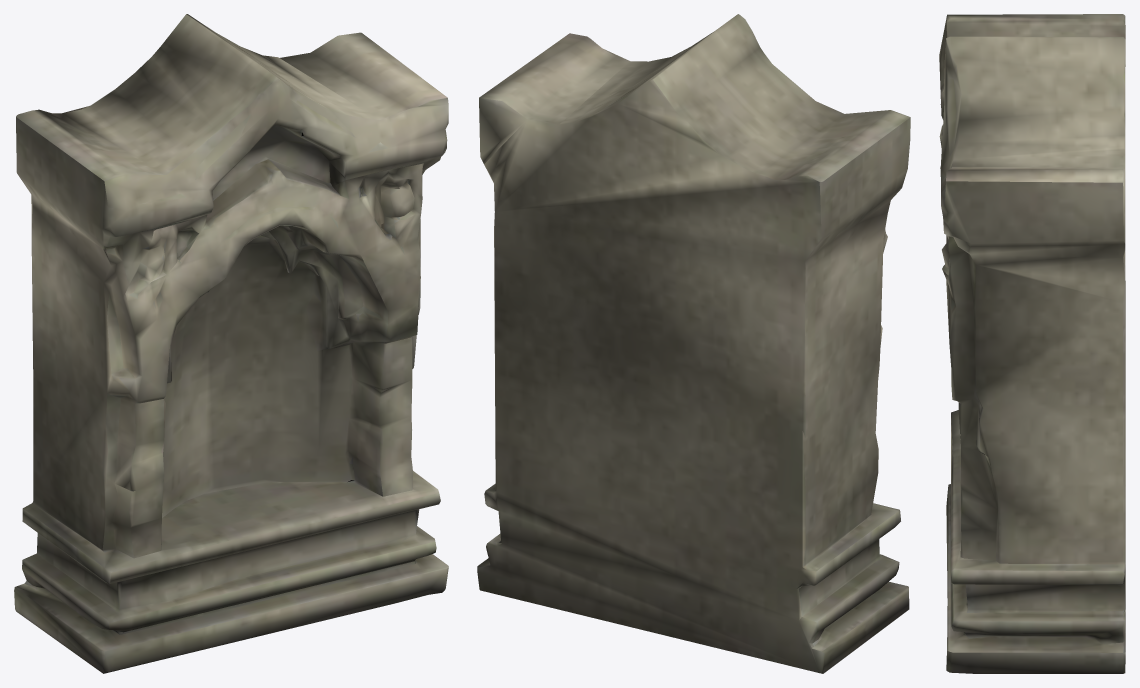
The model's file is ornate-limestone-shrine-v001.glb.
3 views of the same model, side by side, from view 1: azimuth 30°, elevation 25°; view 2: azimuth 150°, elevation 25°; view 3: azimuth 270°, elevation 25° (orthographic).
Visible parts, largest first — view 1: ornate-limestone-shrine; view 2: ornate-limestone-shrine; view 3: ornate-limestone-shrine.
Boxes of the visible parts, x1=… form: ornate-limestone-shrine: x1=14, y1=14, x2=448, y2=673; ornate-limestone-shrine: x1=477, y1=14, x2=910, y2=673; ornate-limestone-shrine: x1=939, y1=14, x2=1125, y2=673.
Bounding box in the file's own units: 0.7468 × 1.14 × 0.3468.
Materials: 1 (1 with a texture image).
